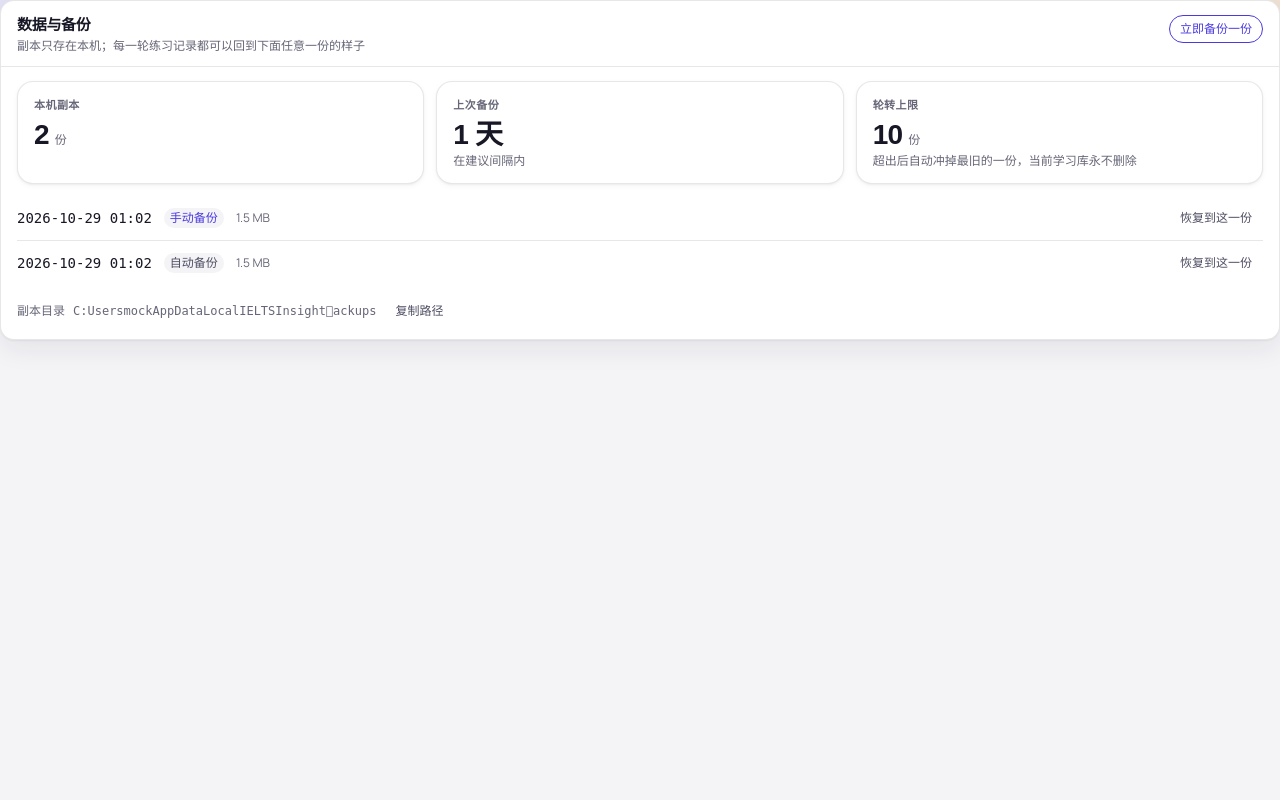
Test: 数据与备份（§14.8） › 恢复要先确认：弹窗点名「会被覆盖」与「先留一份恢复前副本」，且不含路径
Expected: the list named "本机快照" is shown, [17,196,1263,285]
Click the button "恢复到这一份" in the row of "自动备份" at coordinates (1216, 263), box [1169,249,1263,277]
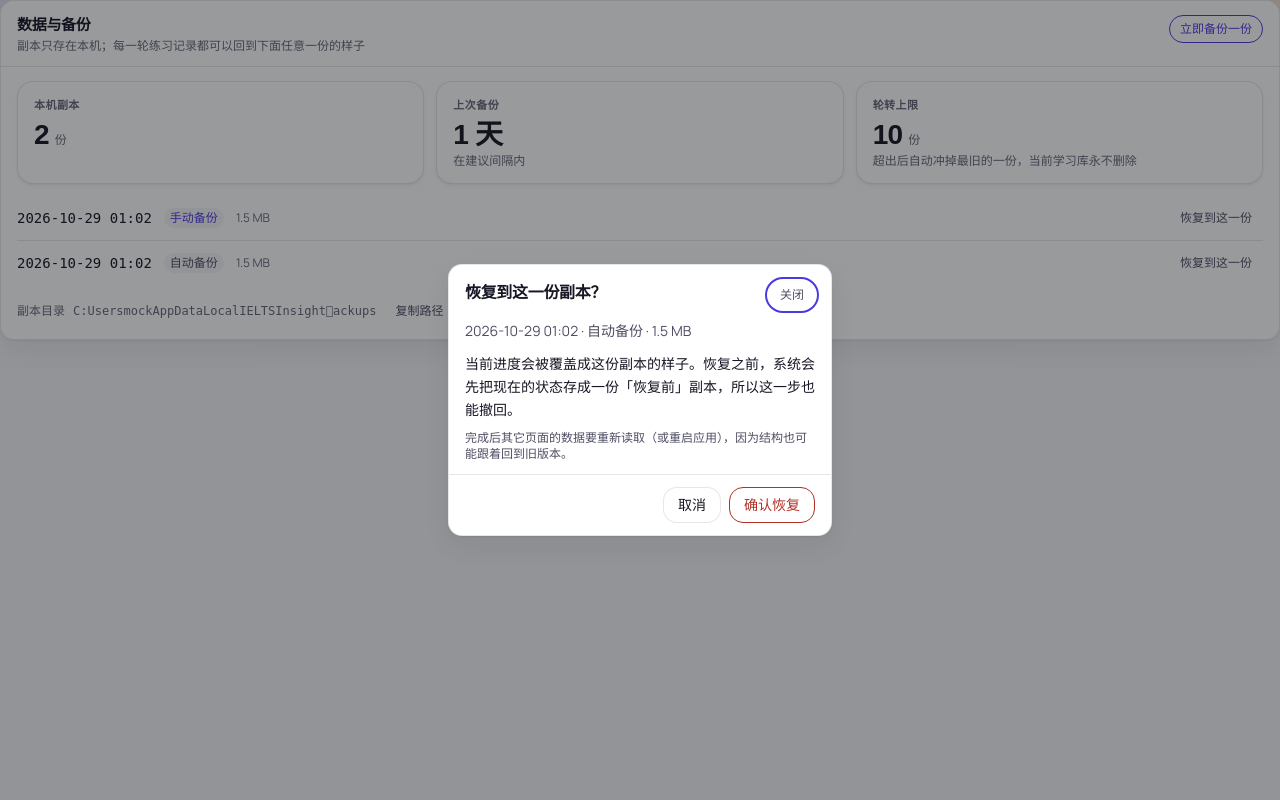
Now the dialog shows "当前进度会被覆盖", box [465,354,815,396]
Now the dialog shows "恢复前", box [465,377,815,419]
Now the button "关闭" is shown, box [769,281,815,309]
